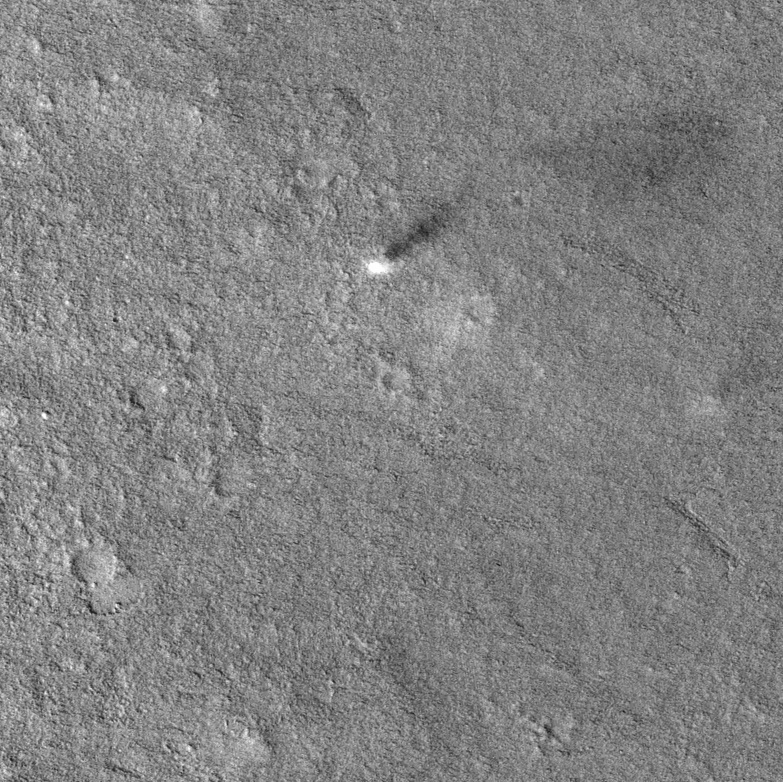dust_devil: (366, 202, 467, 278)
